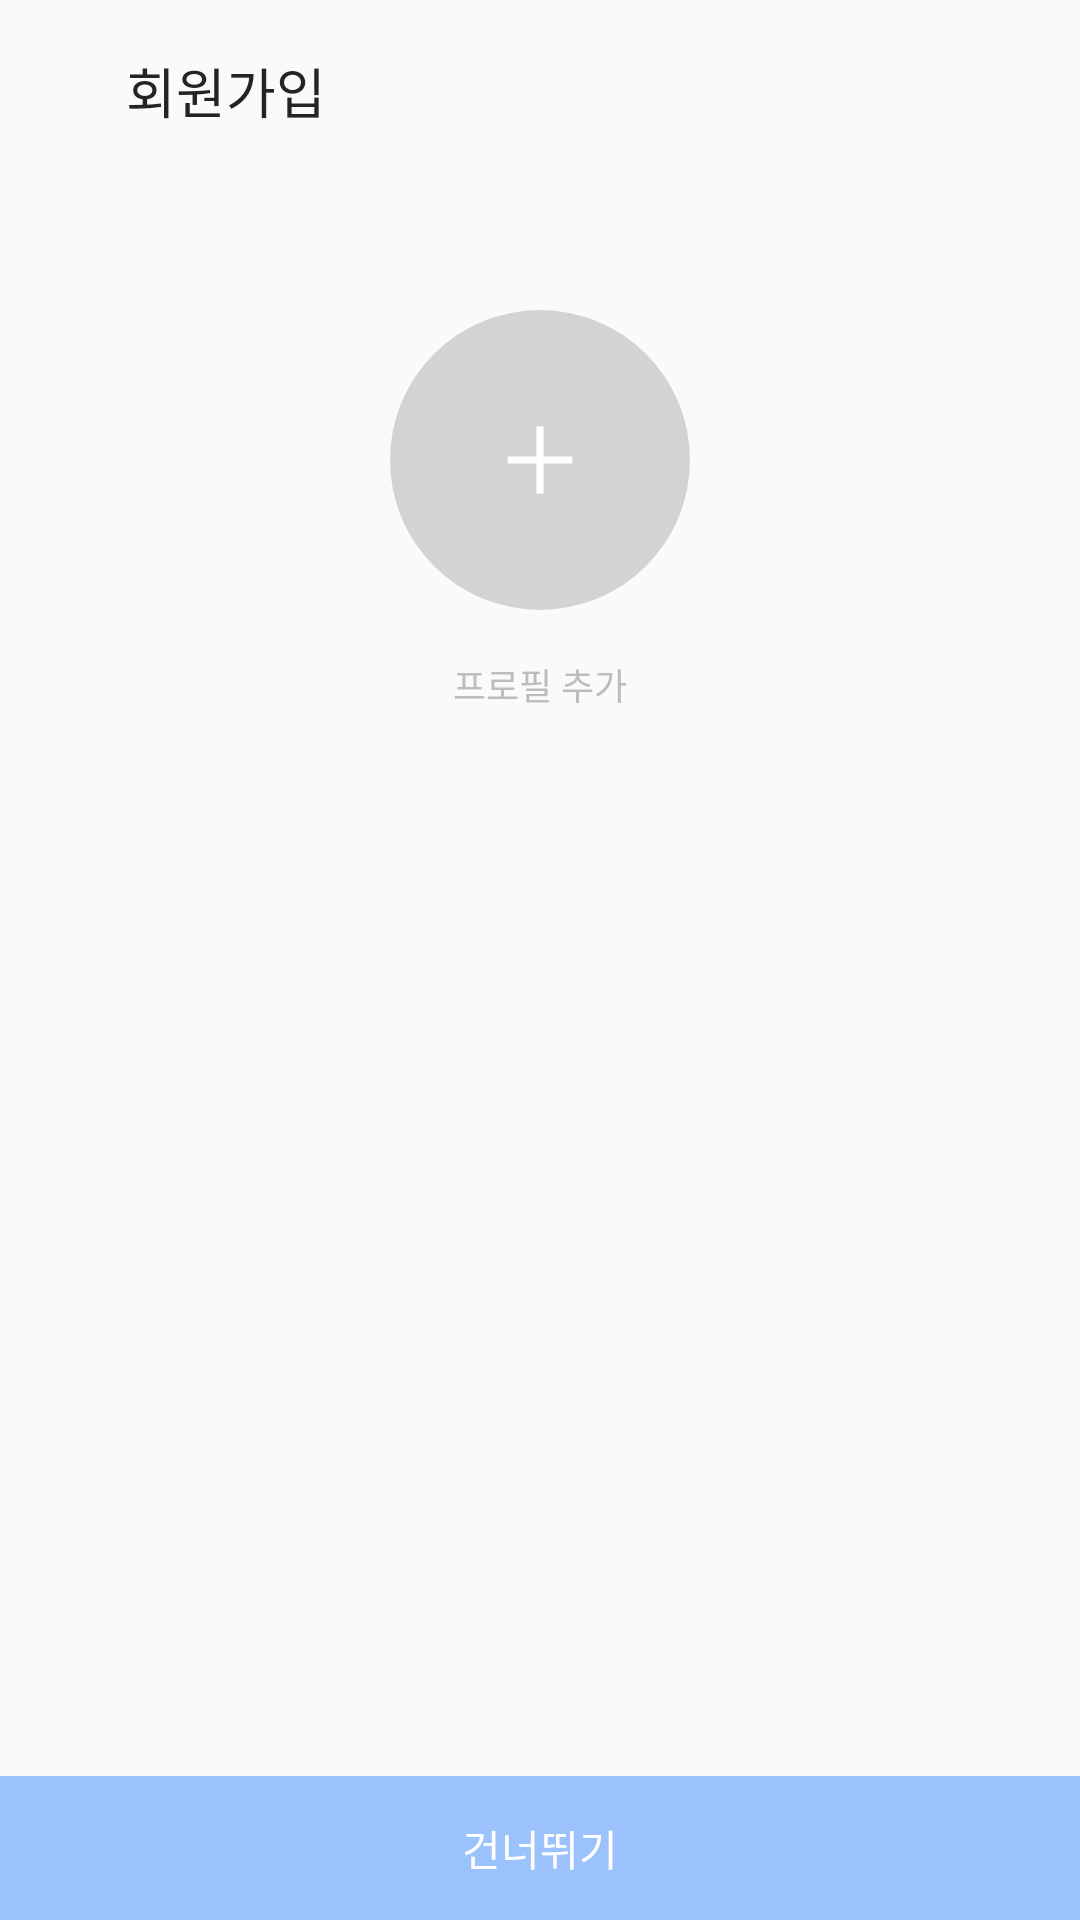

Icons on this 1080*1920 Android screen, each with its box as (x1, y1, x2, y2):
plus: (508, 426, 572, 494)
